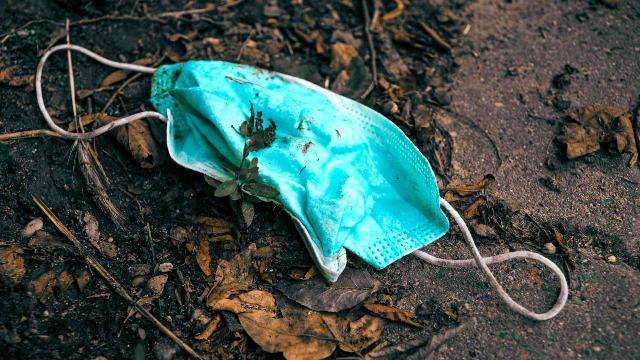mask: (123, 47, 445, 264)
